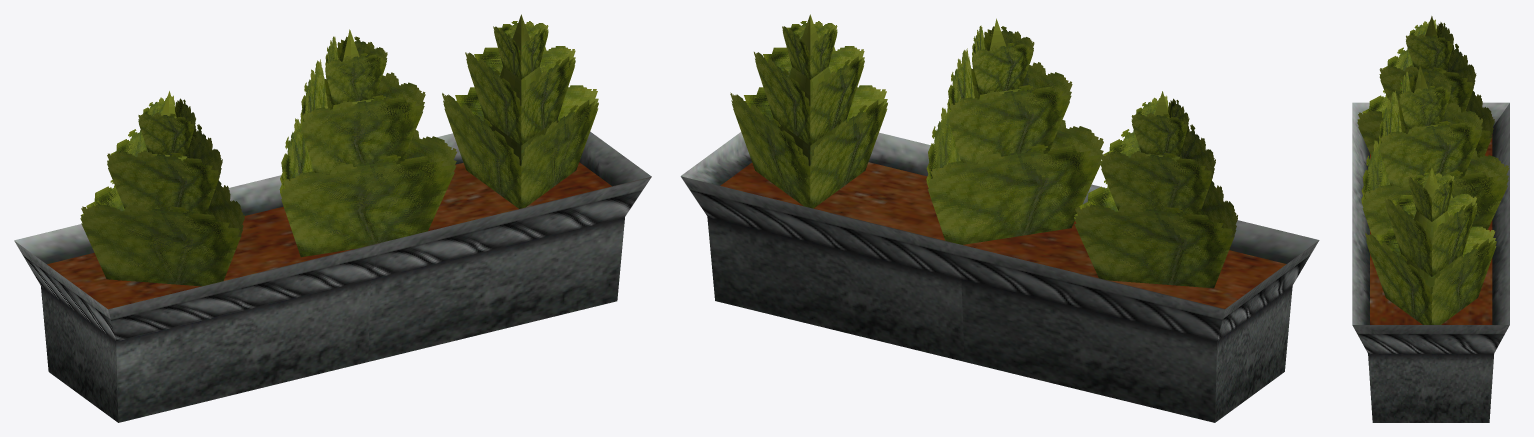
The model's file is skPlantsWindowBoxMesh.obj.
3 renders of one model, left to right at view 1: azimuth 30°, elevation 25°; view 2: azimuth 150°, elevation 25°; view 3: azimuth 270°, elevation 25°, orthographic. The views are drawn at different scales.
Parts seen in each view (by area): view 1: material_1, None; view 2: material_1, None; view 3: None, material_1.
Boxes of the visible parts, x1=… form: material_1: x1=14, y1=131, x2=651, y2=422; None: x1=80, y1=14, x2=598, y2=286; material_1: x1=680, y1=132, x2=1319, y2=422; None: x1=730, y1=14, x2=1237, y2=288; None: x1=1357, y1=16, x2=1509, y2=324; material_1: x1=1352, y1=102, x2=1509, y2=422.
Size of the model in its own units: 101 by 54.53 by 32.67.
2 materials, 2 textured.
